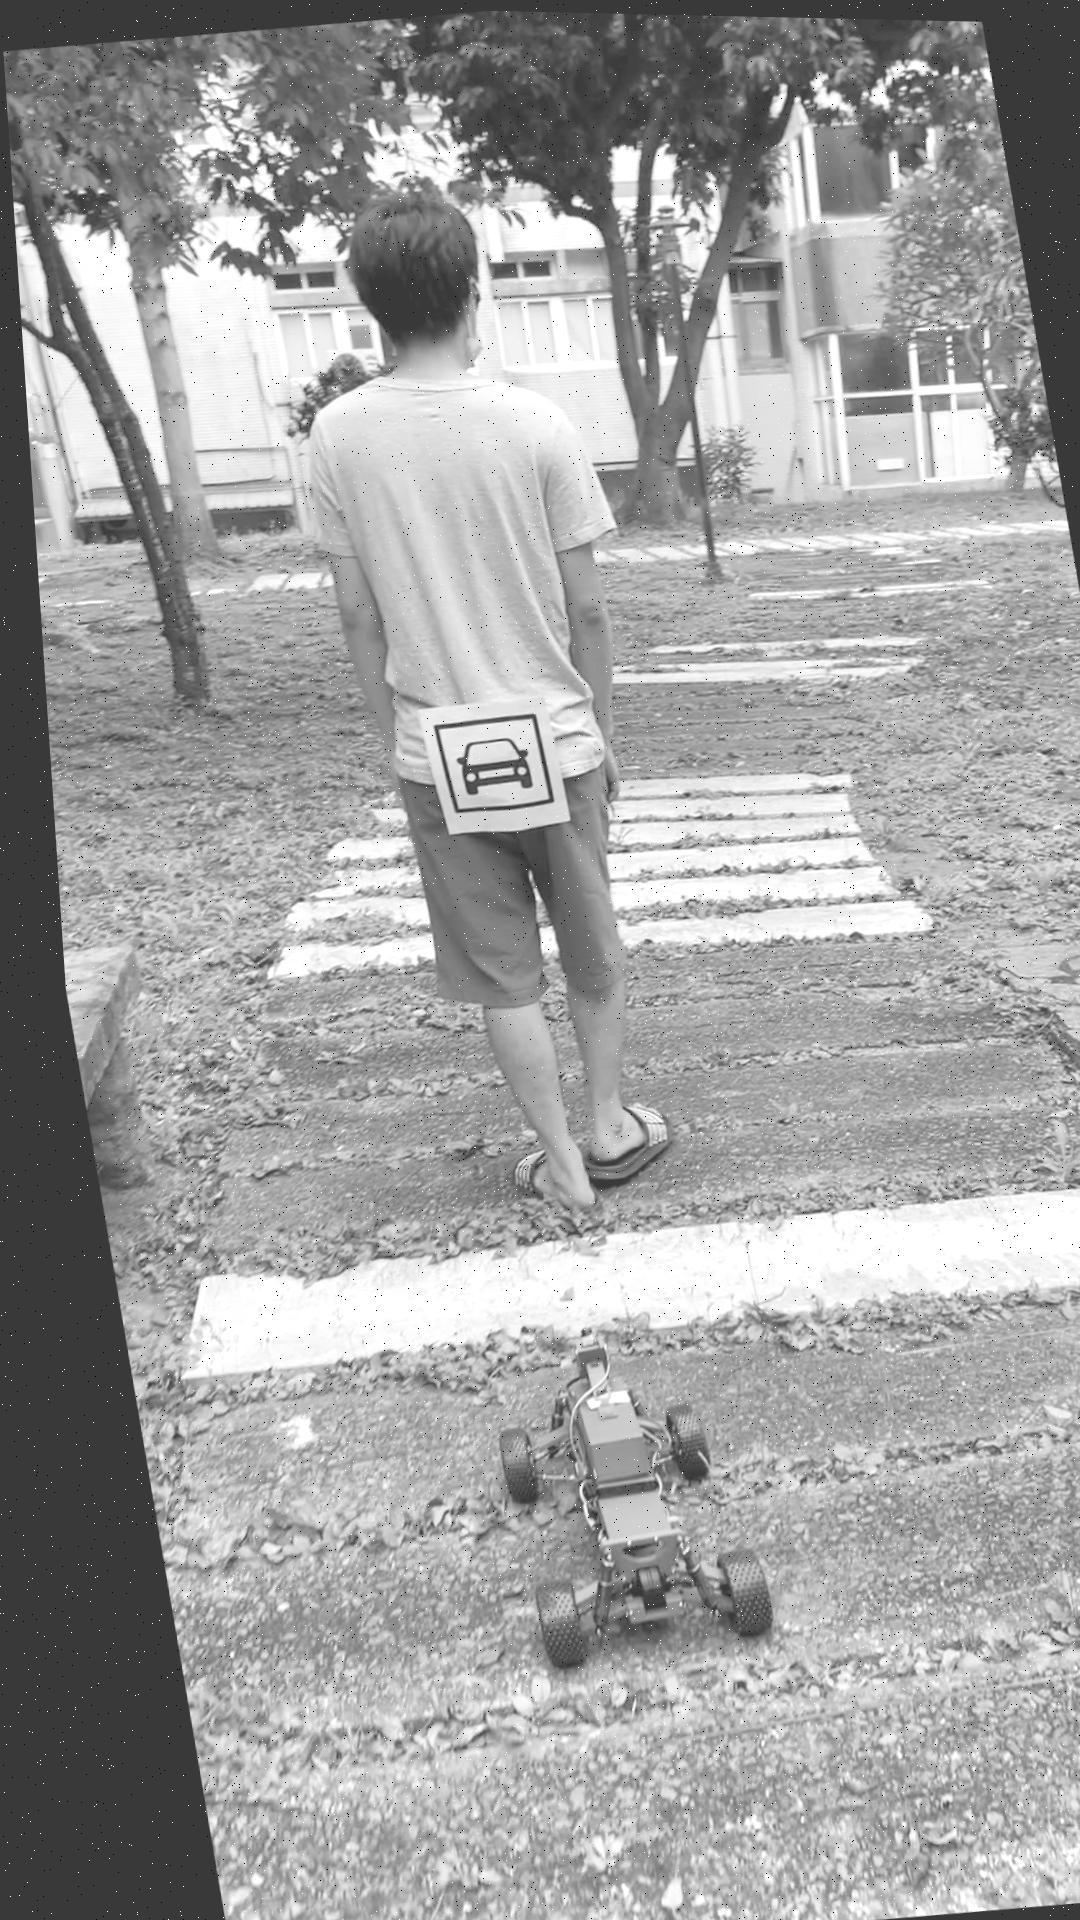car_img: (422, 708, 546, 816)
